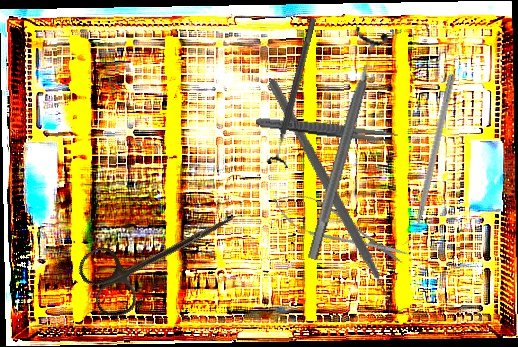Chopper: (193, 78, 462, 325), (400, 71, 456, 249)
Dressing Forceps: (255, 115, 399, 144)
Fixation Ring: (294, 26, 392, 264), (264, 15, 326, 169)
Iris Scissors: (72, 183, 250, 324)
Micro Scissor: (265, 183, 414, 275)
